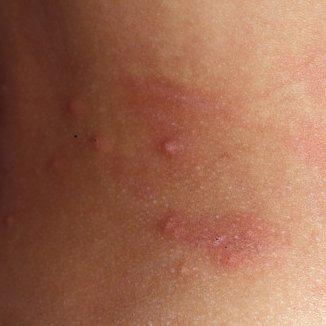Fleas: (155, 211, 279, 268), (133, 72, 227, 124), (62, 93, 95, 132), (156, 133, 186, 160), (81, 133, 104, 152)
